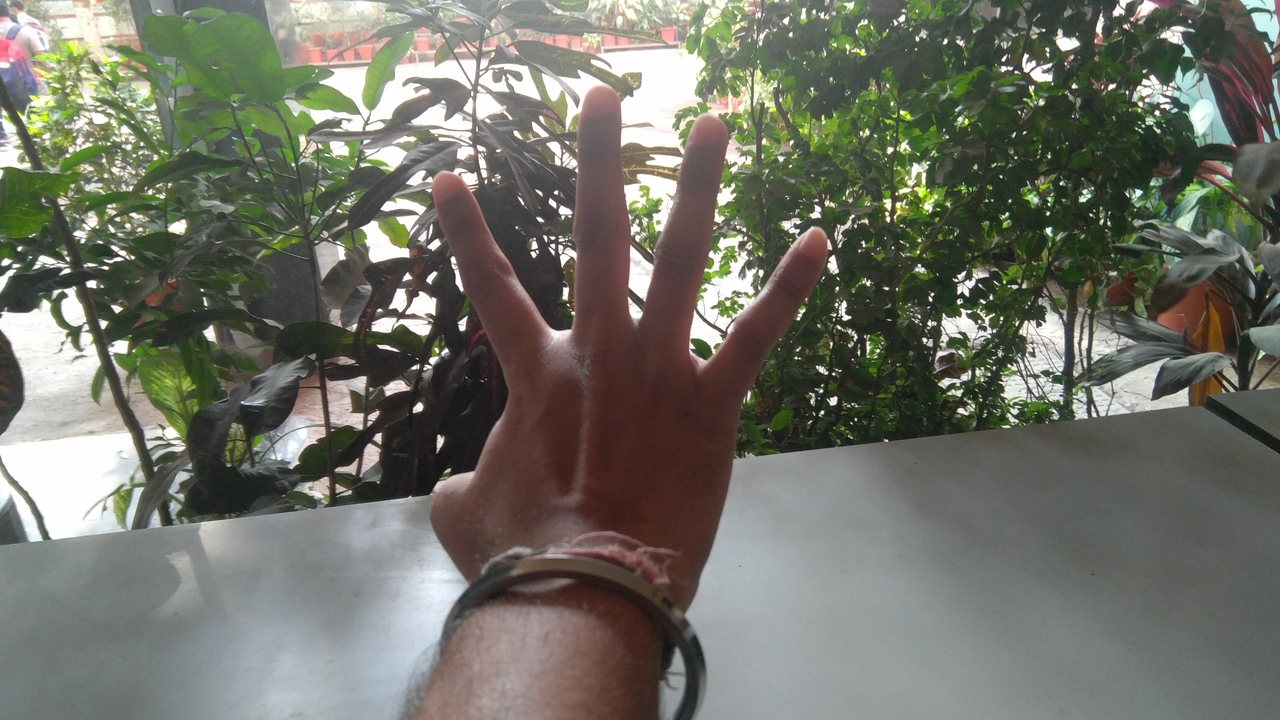fingertip: (780, 216, 836, 274), (682, 104, 736, 158), (422, 164, 470, 220), (576, 78, 624, 128)
